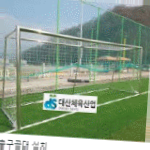goals: (1, 24, 144, 134)
